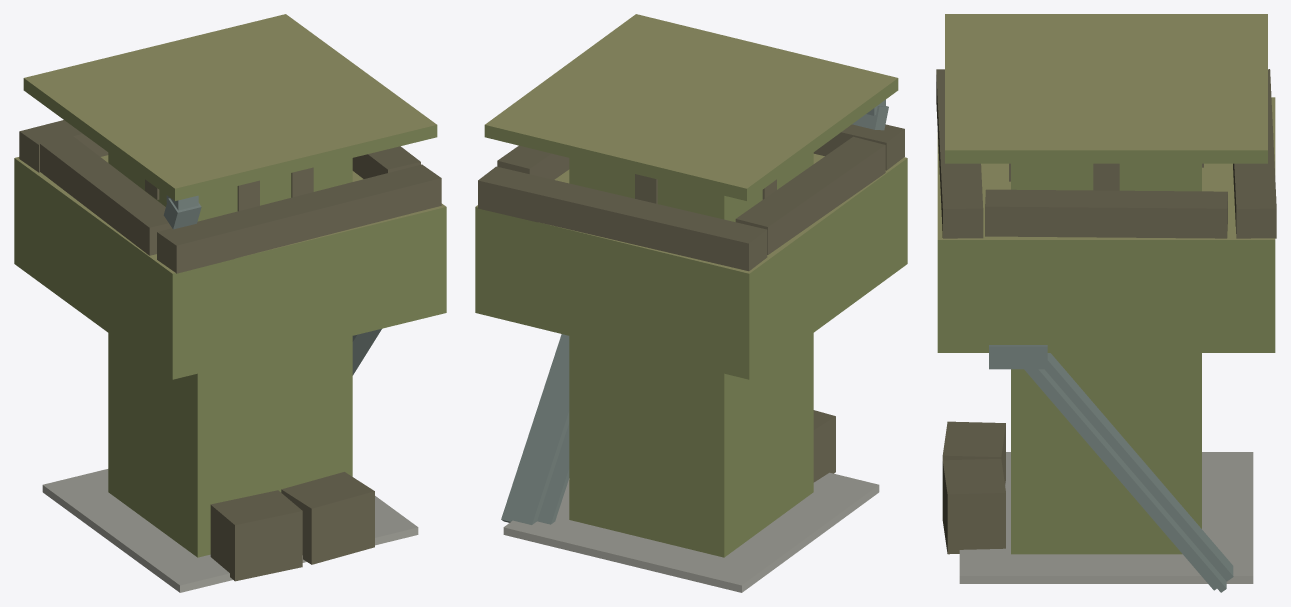
Rendered from SM_TorretaVigia_v2_LOD1.fbx.
The picture shows the model from 3 angles, left to right: view 1: azimuth 30°, elevation 25°; view 2: azimuth 150°, elevation 25°; view 3: azimuth 270°, elevation 25°; orthographic projection. The views are drawn at different scales.
Parts seen in each view (by area): view 1: SM_torreta_vigia_v2_LOD1; view 2: SM_torreta_vigia_v2_LOD1; view 3: SM_torreta_vigia_v2_LOD1.
Boxes of the visible parts, x1,y1,x2,y2 form: SM_torreta_vigia_v2_LOD1: (14, 14, 446, 592); SM_torreta_vigia_v2_LOD1: (475, 14, 907, 592); SM_torreta_vigia_v2_LOD1: (936, 14, 1276, 592).
Size of the model in its own units: 4.66 by 6.7 by 4.64.
